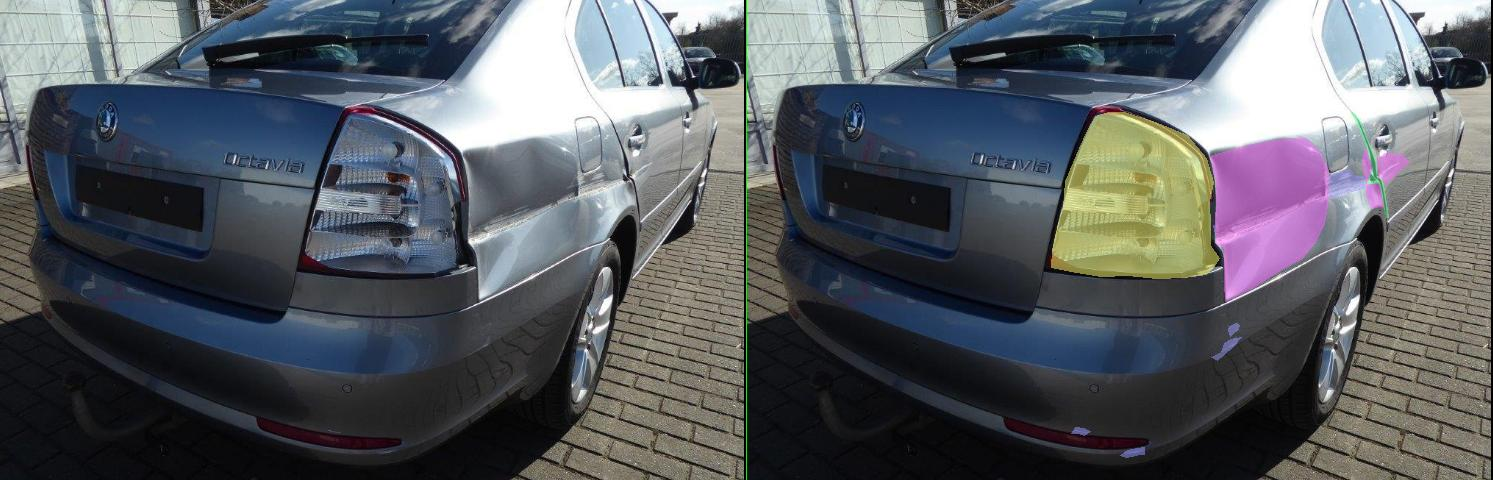Broken part: (1207, 111, 1283, 217), (1241, 171, 1263, 183)
Cracked: (608, 112, 945, 278)
Dent: (927, 138, 1163, 301), (1231, 146, 1279, 208), (1259, 153, 1325, 183)
Scratch: (933, 169, 1249, 245), (929, 337, 989, 360), (1259, 162, 1305, 178), (746, 447, 795, 457), (648, 427, 686, 435), (963, 323, 985, 336)
